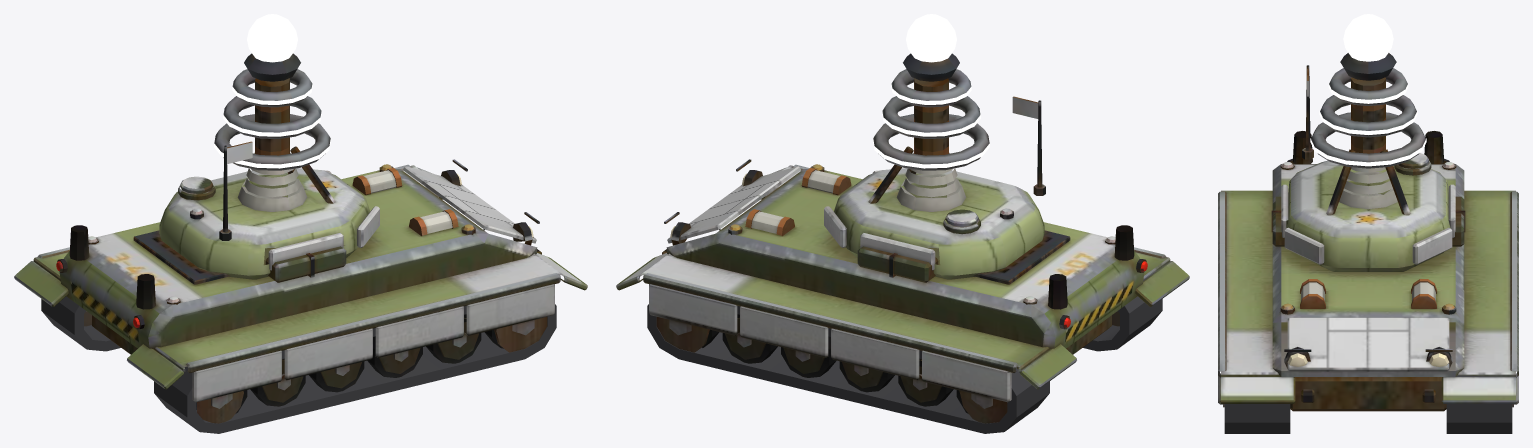
The model's file is ttnk.soviet.glb.
3 renders of one model, left to right at view 1: azimuth 30°, elevation 25°; view 2: azimuth 150°, elevation 25°; view 3: azimuth 270°, elevation 25°, orthographic.
Visible parts, largest first — view 1: root_mesh, turret_mesh; view 2: root_mesh, turret_mesh; view 3: root_mesh, turret_mesh.
Part boxes in pixels (box(x1,y1,x2,y2)): root_mesh: box(14, 159, 587, 433); turret_mesh: box(159, 14, 379, 279); root_mesh: box(616, 159, 1189, 433); turret_mesh: box(824, 14, 1045, 279); root_mesh: box(1218, 131, 1518, 433); turret_mesh: box(1281, 14, 1455, 271).
Size of the model in its own units: 0.9562 by 0.718 by 0.596.
4 materials, 1 textured.
